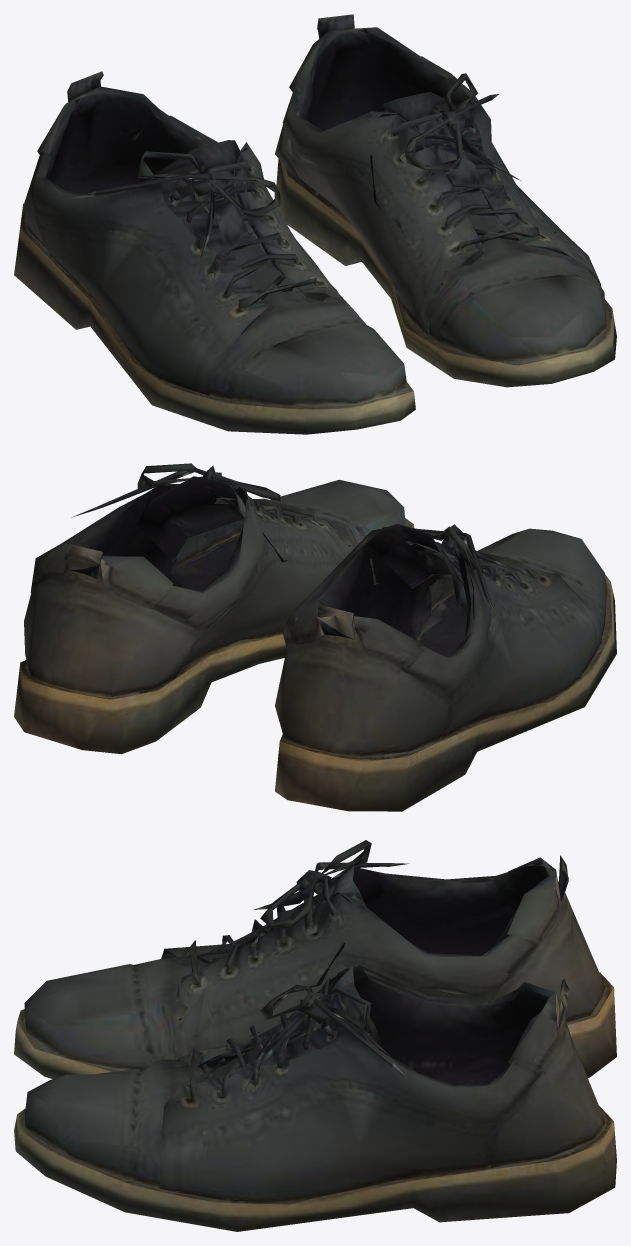
Rendered from shoes_black.glb.
3 views of the same model, one above another, from view 1: azimuth 30°, elevation 25°; view 2: azimuth 150°, elevation 25°; view 3: azimuth 270°, elevation 25° (orthographic). The views are drawn at different scales.
Parts seen in each view (by area): view 1: shoes_black; view 2: shoes_black; view 3: shoes_black.
Boxes of the visible parts, x1=… form: shoes_black: x1=14, y1=14, x2=616, y2=434; shoes_black: x1=14, y1=463, x2=616, y2=811; shoes_black: x1=14, y1=840, x2=616, y2=1231.
Size of the model in its own units: 0.2488 by 0.108 by 0.2896.
Materials: 1 (1 with a texture image).
